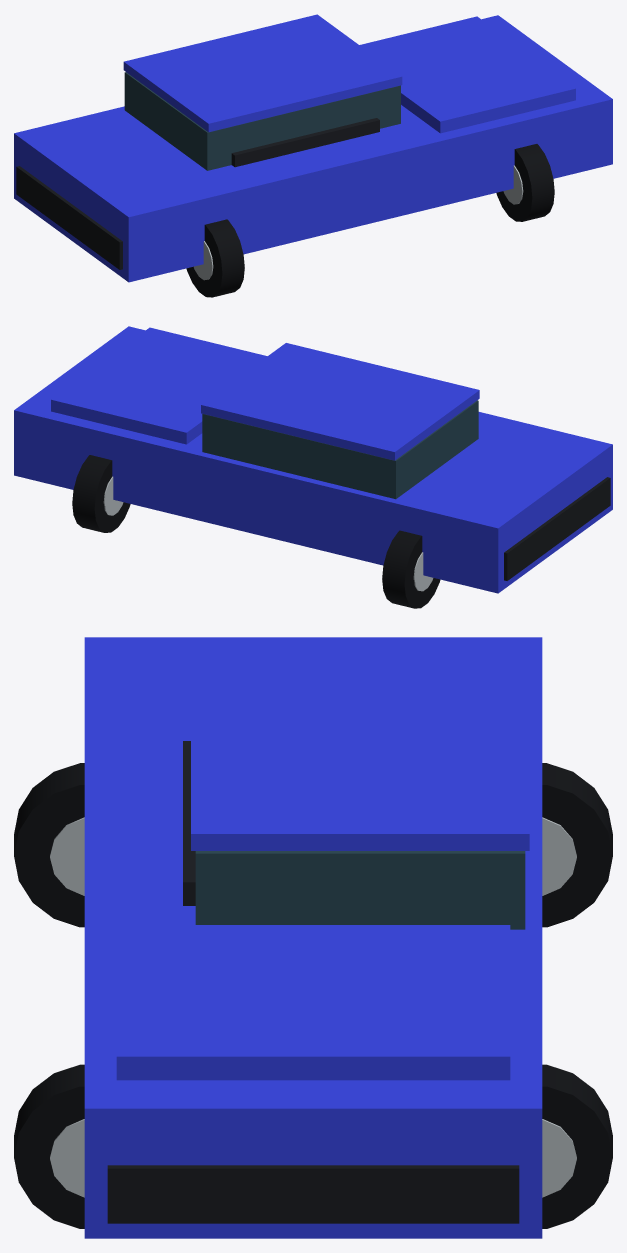
Rendered from ford_mustang.glb.
The picture shows the model from 3 angles, top to bottom: view 1: azimuth 30°, elevation 25°; view 2: azimuth 150°, elevation 25°; view 3: azimuth 270°, elevation 25°; orthographic projection. The views are drawn at different scales.
Visible parts, largest first — view 1: body, roof, hood, cabin, rear_bumper, rear_right_wheel, front_right_wheel, interior; view 2: body, roof, hood, cabin, rear_bumper, rear_left_wheel, front_left_wheel; view 3: body, roof, hood, cabin, front_bumper, front_left_wheel, front_right_wheel, rear_left_wheel, rear_right_wheel, interior.
Part boxes in pixels (bbox=[...]): body: bbox=[14, 15, 612, 282]; roof: bbox=[123, 14, 402, 132]; hood: bbox=[359, 16, 575, 133]; cabin: bbox=[124, 72, 400, 170]; rear_bumper: bbox=[16, 166, 122, 269]; rear_right_wheel: bbox=[186, 219, 244, 297]; front_right_wheel: bbox=[496, 144, 554, 221]; interior: bbox=[231, 118, 379, 167]; body: bbox=[14, 326, 612, 593]; roof: bbox=[201, 343, 479, 460]; hood: bbox=[51, 327, 267, 444]; cabin: bbox=[202, 400, 478, 499]; rear_bumper: bbox=[504, 477, 610, 580]; rear_left_wheel: bbox=[382, 530, 440, 608]; front_left_wheel: bbox=[72, 455, 130, 532]; body: bbox=[84, 637, 542, 1238]; roof: bbox=[191, 645, 529, 850]; hood: bbox=[116, 925, 510, 1080]; cabin: bbox=[195, 851, 525, 929]; front_bumper: bbox=[107, 1165, 519, 1223]; front_left_wheel: bbox=[542, 1064, 612, 1228]; front_right_wheel: bbox=[14, 1064, 84, 1228]; rear_left_wheel: bbox=[542, 763, 612, 927]; rear_right_wheel: bbox=[14, 763, 84, 927]; interior: bbox=[183, 741, 195, 905].
Bounding box in the file's own units: 4.81 × 1.36 × 2.55.
